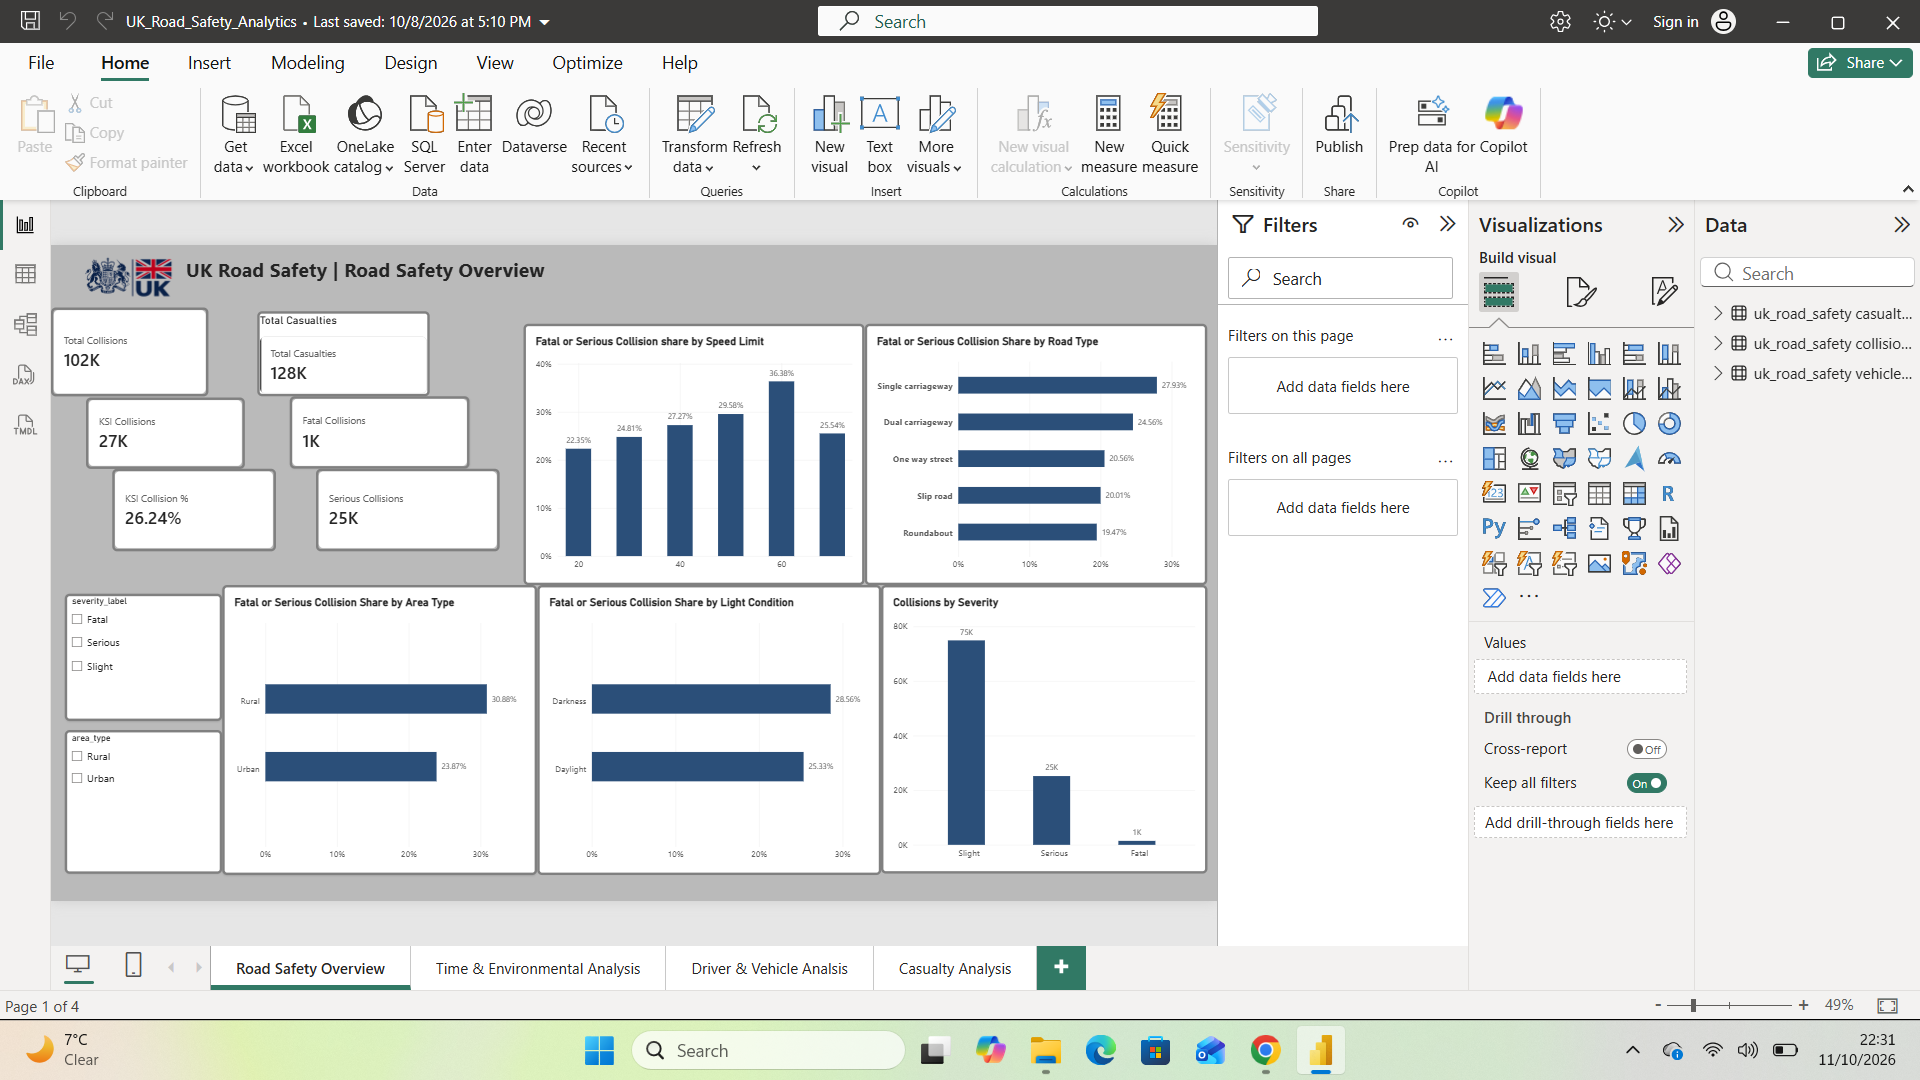

The page's visual inventory and layout, read from the dashboard file:
{"tool":"powerbi","page":{"name":"Road Safety Overview","canvas":[1920,1080],"ordinal":0},"visuals":[{"type":"cardVisual","fields":{"Data":["uk_road_safety collisions_clean.Total Collisions"]},"box":[0,102.9,259.3,146.1],"z":0},{"type":"cardVisual","title":"Total Casualties","fields":{"Data":["uk_road_safety casualties_clean.Total Casualties"]},"box":[339.6,109.1,284,140],"z":1000},{"type":"cardVisual","fields":{"Data":["uk_road_safety collisions_clean.KSI Collisions"]},"box":[57.6,251.1,261.4,117.3],"z":2000},{"type":"cardVisual","fields":{"Data":["uk_road_safety casualties_clean.KSI Collision %"]},"box":[100.9,368.4,269.6,135.8],"z":3000},{"type":"cardVisual","fields":{"Data":["uk_road_safety casualties_clean.Fatal Collisions"]},"box":[393.1,249.1,296.4,119.4],"z":4000},{"type":"cardVisual","fields":{"Data":["uk_road_safety casualties_clean.Serious Collisions"]},"box":[436.4,368.4,302.6,135.8],"z":5000},{"type":"clusteredColumnChart","title":"Collisions by Severity","fields":{"Category":["uk_road_safety collisions_clean.severity_label"],"Y":["uk_road_safety collisions_clean.Total Collisions"]},"box":[1366.7,559.9,537.2,475.5],"z":6000},{"type":"clusteredBarChart","title":"Fatal or Serious Collision Share by Road Type","fields":{"Category":["uk_road_safety collisions_clean.road_type_label"],"Y":["uk_road_safety casualties_clean.KSI Collision %"]},"box":[1340,129.7,564,430.2],"z":7000},{"type":"clusteredBarChart","title":"Fatal or Serious Collision Share by Area Type","fields":{"Category":["uk_road_safety collisions_clean.area_type"],"Y":["uk_road_safety casualties_clean.KSI Collision %"]},"box":[282,559.9,518.7,477.5],"z":8000},{"type":"clusteredBarChart","title":"Fatal or Serious Collision Share by Light Condition","fields":{"Category":["uk_road_safety collisions_clean.light_group"],"Y":["uk_road_safety casualties_clean.KSI Collision %"]},"box":[800.7,559.9,566,477.5],"z":9000},{"type":"clusteredColumnChart","title":"Fatal or Serious Collision share by Speed Limit","fields":{"Category":["uk_road_safety collisions_clean.speed_limit"],"Y":["uk_road_safety casualties_clean.KSI Collision %"]},"box":[778,129.7,561.9,430.2],"z":10000},{"type":"textbox","box":[100.9,100.9,477.5,74.1],"z":11000},{"type":"textbox","box":[222.3,0,736.9,102.9],"z":11001},{"type":"image","box":[0,0,259.3,105],"z":11002},{"type":"slicer","fields":{"Values":["uk_road_safety collisions_clean.severity_label"]},"box":[22.6,574.3,259.3,209.9],"z":11003},{"type":"slicer","fields":{"Values":["uk_road_safety collisions_clean.area_type"]},"box":[22.6,798.6,259.3,236.7],"z":11004}]}

Visuals, with their boxes on the page's 1920x1080 design canvas (x1, y1, x2, y2). These are canvas units, not pixel positions in the 1920x1080 screenshot, which may show the page scaled, cropped or inside an application window:
cardVisual - uk_road_safety collisions_clean.Total Collisions: detection(0, 103, 259, 249)
"Total Casualties" cardVisual: detection(340, 109, 624, 249)
cardVisual - uk_road_safety collisions_clean.KSI Collisions: detection(58, 251, 319, 368)
cardVisual - uk_road_safety casualties_clean.KSI Collision %: detection(101, 368, 370, 504)
cardVisual - uk_road_safety casualties_clean.Fatal Collisions: detection(393, 249, 690, 368)
cardVisual - uk_road_safety casualties_clean.Serious Collisions: detection(436, 368, 739, 504)
"Collisions by Severity" clusteredColumnChart: detection(1367, 560, 1904, 1035)
"Fatal or Serious Collision Share by Road Type" clusteredBarChart: detection(1340, 130, 1904, 560)
"Fatal or Serious Collision Share by Area Type" clusteredBarChart: detection(282, 560, 801, 1037)
"Fatal or Serious Collision Share by Light Condition" clusteredBarChart: detection(801, 560, 1367, 1037)
"Fatal or Serious Collision share by Speed Limit" clusteredColumnChart: detection(778, 130, 1340, 560)
textbox: detection(101, 101, 578, 175)
textbox: detection(222, 0, 959, 103)
image: detection(0, 0, 259, 105)
slicer - uk_road_safety collisions_clean.severity_label: detection(23, 574, 282, 784)
slicer - uk_road_safety collisions_clean.area_type: detection(23, 799, 282, 1035)
